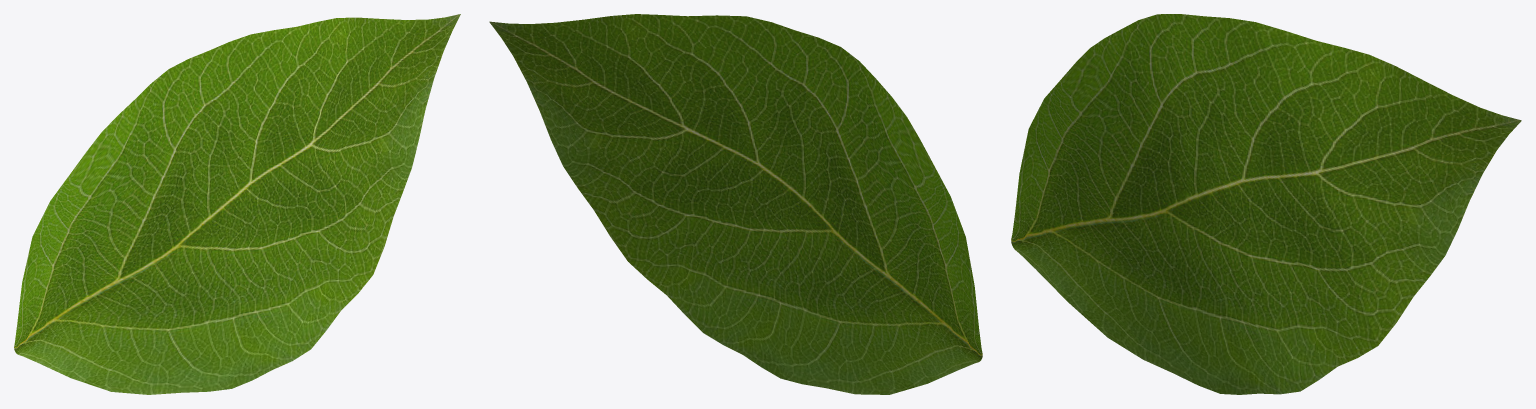
File: Leaf.fbx
3 renders of one model, left to right at view 1: azimuth 30°, elevation 25°; view 2: azimuth 150°, elevation 25°; view 3: azimuth 330°, elevation 25°, orthographic. The views are drawn at different scales.
Parts seen in each view (by area): view 1: Leaf Mesh; view 2: Leaf Mesh; view 3: Leaf Mesh.
Boxes of the visible parts, x1,y1,x2,y2 form: Leaf Mesh: (14,14,460,394); Leaf Mesh: (489,14,982,394); Leaf Mesh: (1011,14,1521,394).
Bounding box in the file's own units: 466 × 334 × 47.68.
